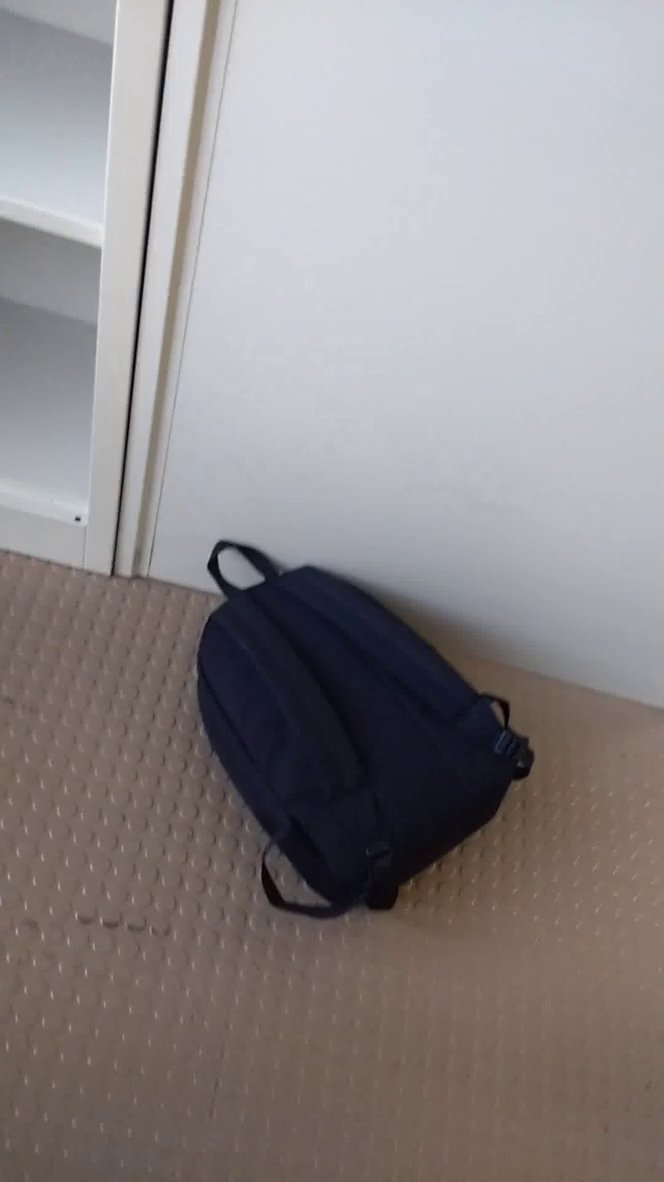bag: (182, 525, 543, 933)
